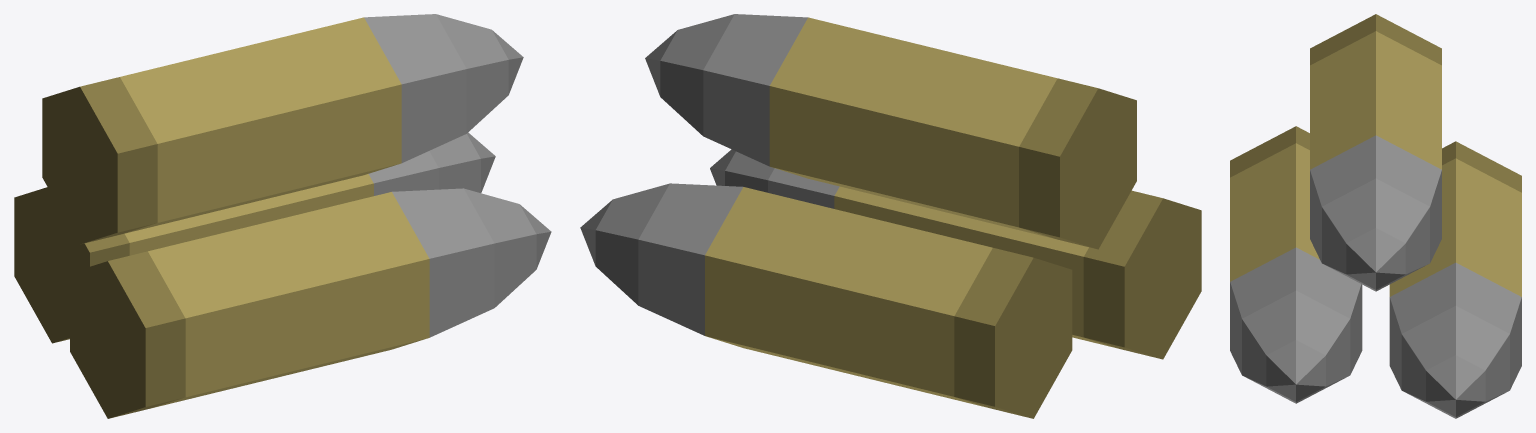
File: item_shell_he_b.obj
The picture shows the model from 3 angles, left to right: view 1: azimuth 30°, elevation 25°; view 2: azimuth 150°, elevation 25°; view 3: azimuth 270°, elevation 25°; orthographic projection. The views are drawn at different scales.
Bounding box in the file's own units: 0.7182 × 0.4219 × 0.4326.
